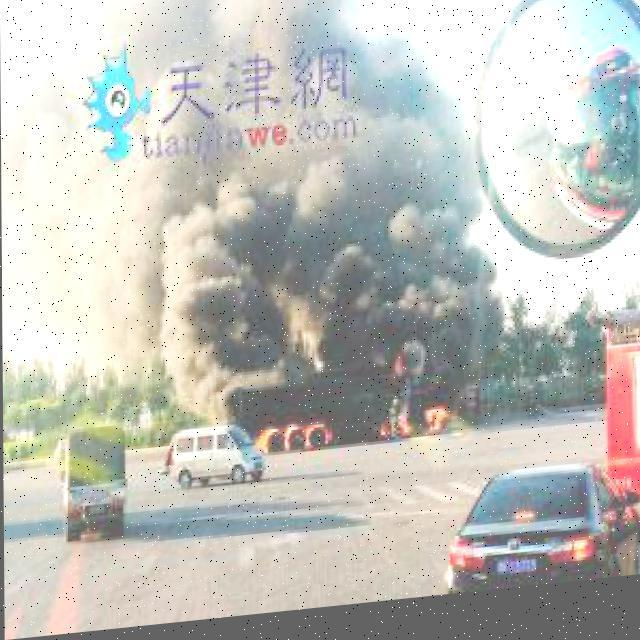Fire: (239, 331, 470, 466)
